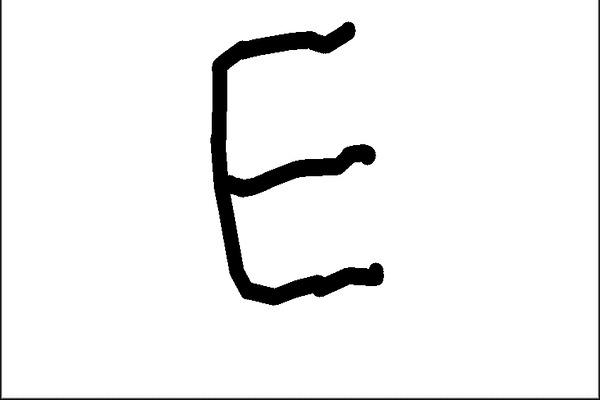E: (201, 19, 392, 306)
